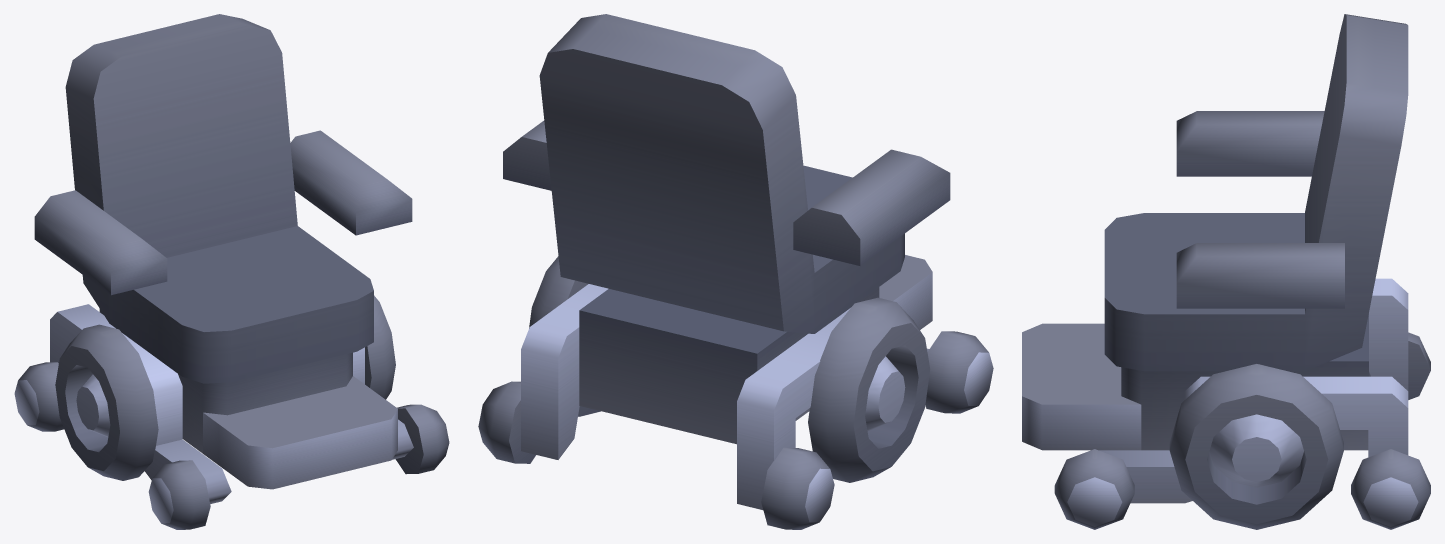
The model's file is wheelchair-power.fbx.
The picture shows the model from 3 angles, left to right: view 1: azimuth 30°, elevation 25°; view 2: azimuth 150°, elevation 25°; view 3: azimuth 270°, elevation 25°; orthographic projection. The views are drawn at different scales.
Visible parts, largest first — view 1: wheelchair-power; view 2: wheelchair-power; view 3: wheelchair-power.
Boxes of the visible parts, <box> form: wheelchair-power: <box>14,14,449,529</box>; wheelchair-power: <box>478,14,993,529</box>; wheelchair-power: <box>1022,14,1430,529</box>.
Bounding box in the file's own units: 48 × 57.17 × 51.09.
